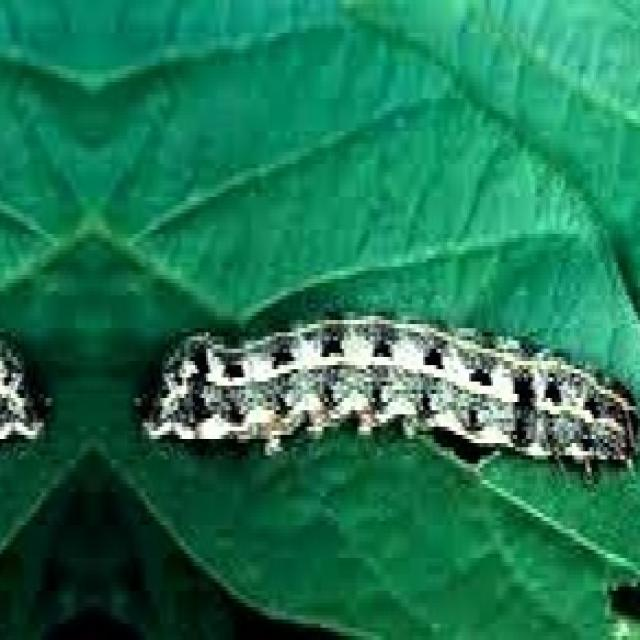Armyworm: (137, 208, 640, 613), (1, 219, 56, 490)
